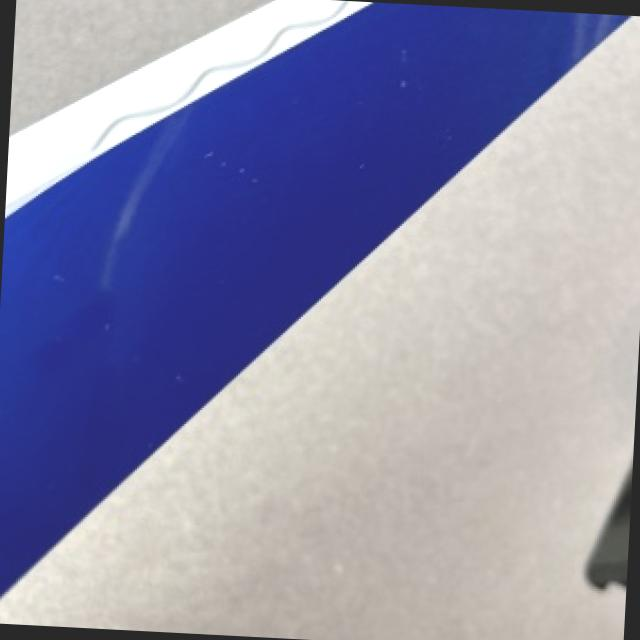healthy: (0, 16, 640, 640)
